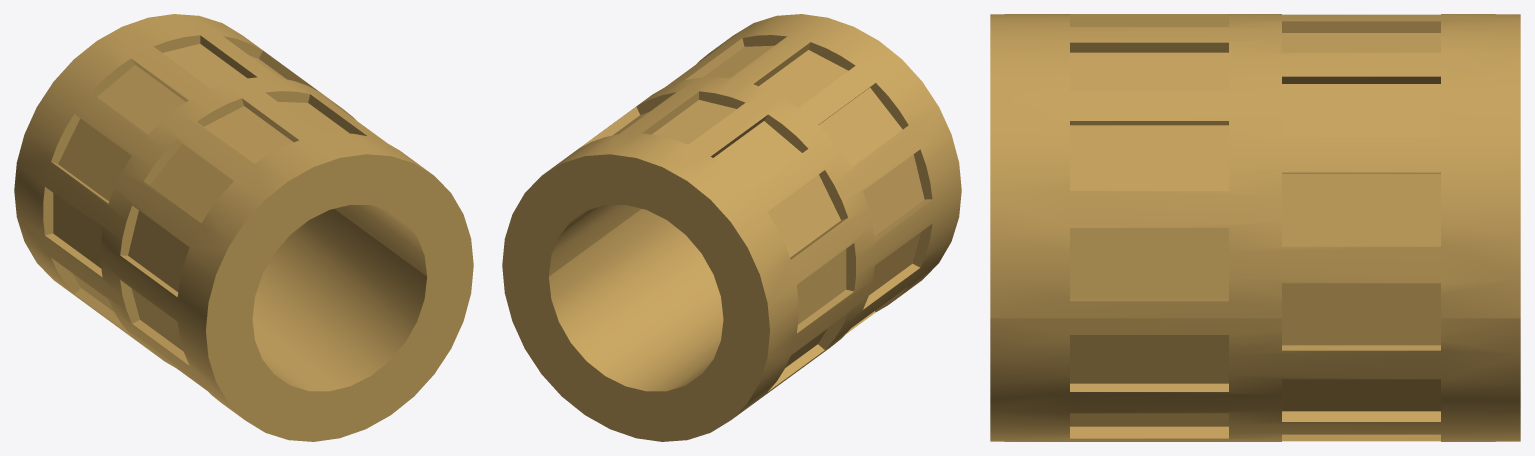
The model's file is heat-inserts-m3.glb.
The picture shows the model from 3 angles, left to right: view 1: azimuth 30°, elevation 25°; view 2: azimuth 150°, elevation 25°; view 3: azimuth 270°, elevation 25°; orthographic projection. The views are drawn at different scales.
Parts seen in each view (by area): view 1: body; view 2: body; view 3: body.
Boxes of the visible parts, x1=… form: body: x1=14, y1=14, x2=473, y2=441; body: x1=502, y1=14, x2=961, y2=441; body: x1=990, y1=14, x2=1520, y2=441.
Bounding box in the file's own units: 4.6 × 4.6 × 5.7.
